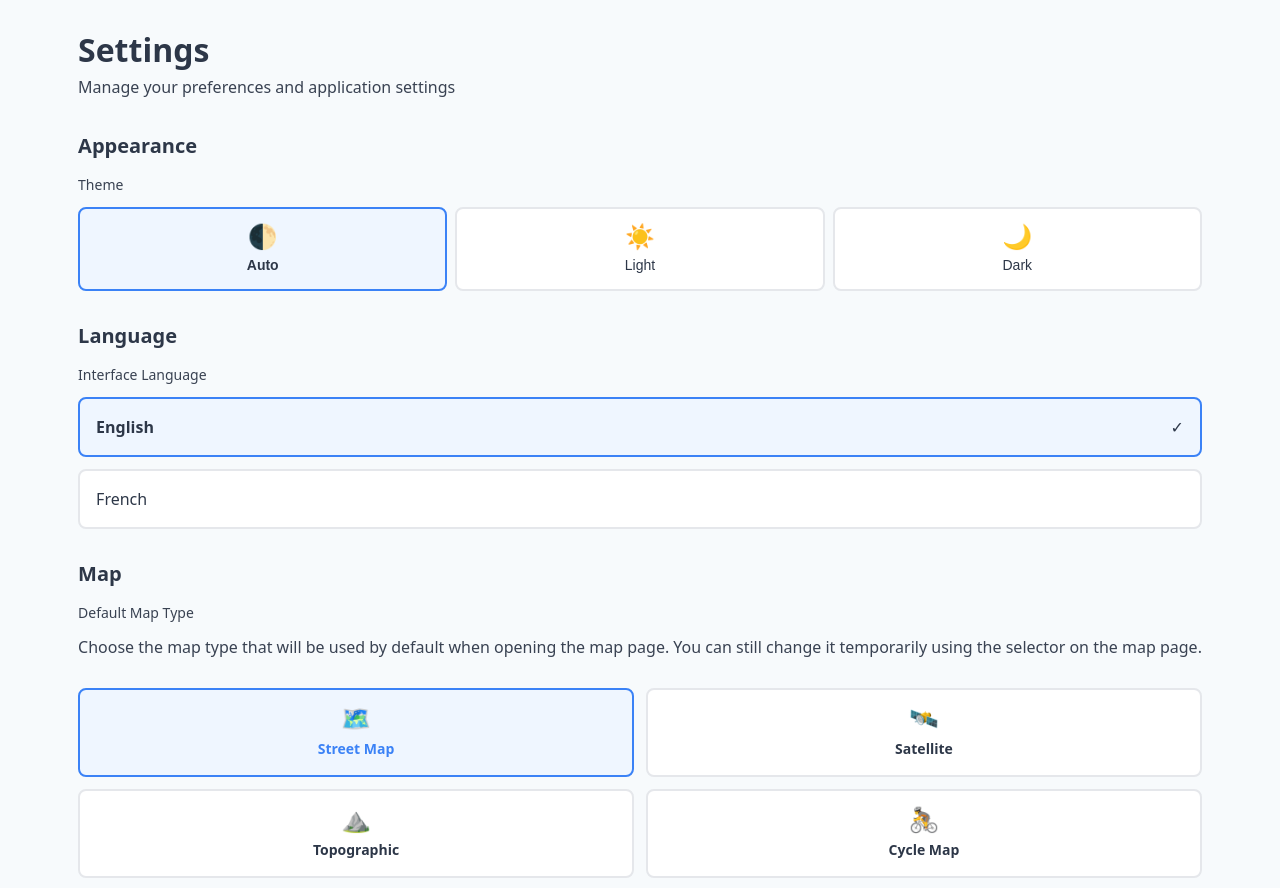
Scenario: SettingsPage Component › Form Interaction › should display success message after save
The image size is (1280, 888).
Click the radio button labelled "🛰️ Satellite".
click(924, 733)  # box [646,688,1202,777]
(page scrolled)
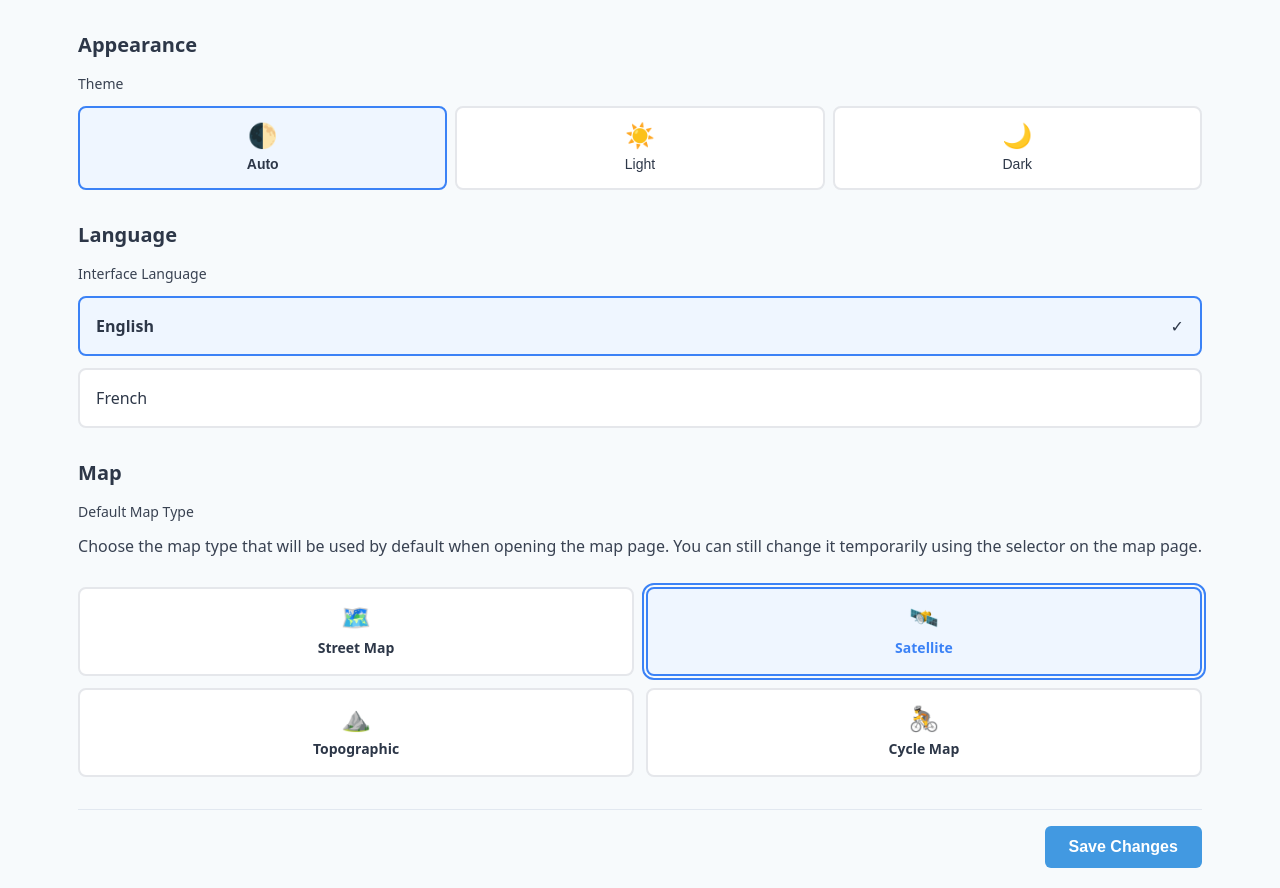
Click the button "Save Changes".
click(1123, 847)  # box [1044,826,1202,868]
(page scrolled)
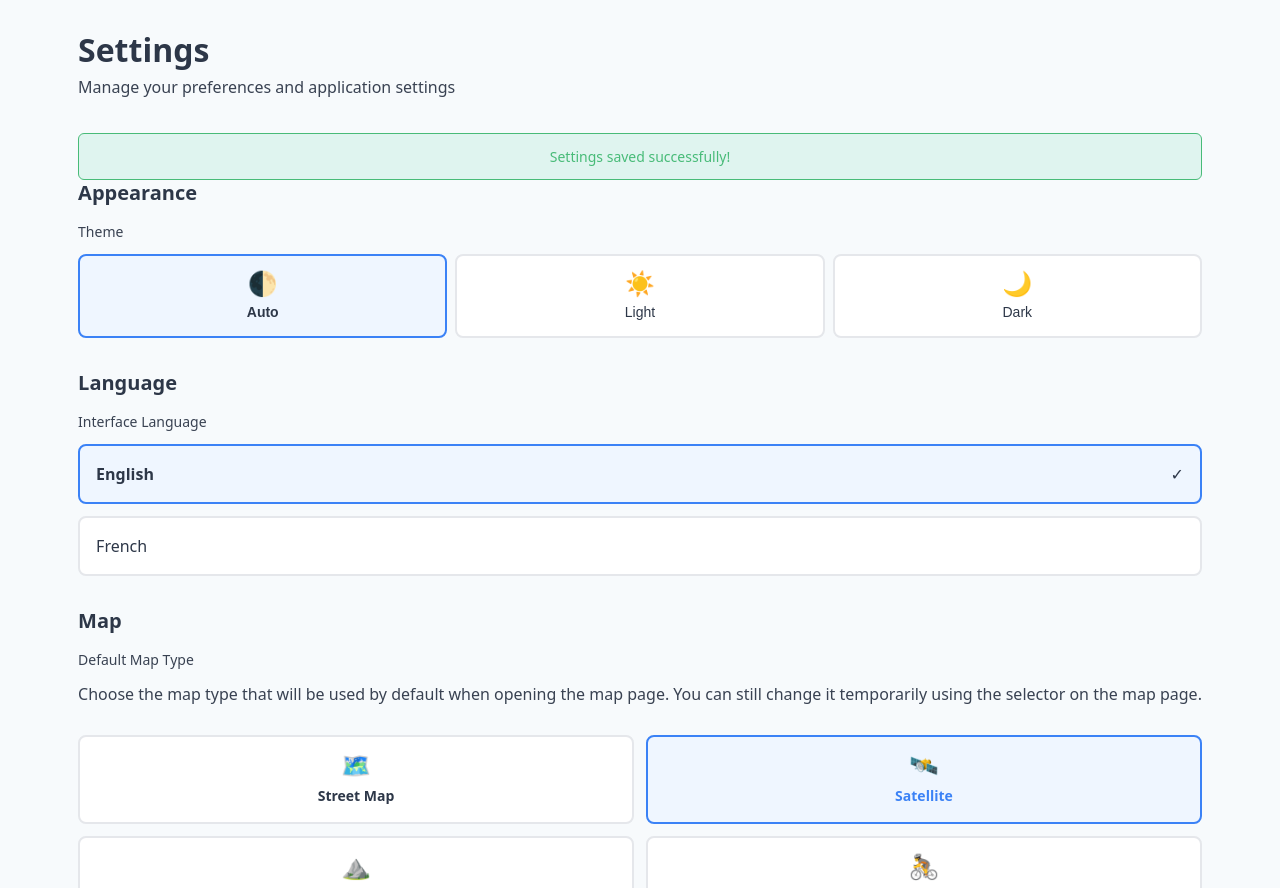
Check: the text "Settings saved successfully!" is shown, box [78,133,1202,180]
